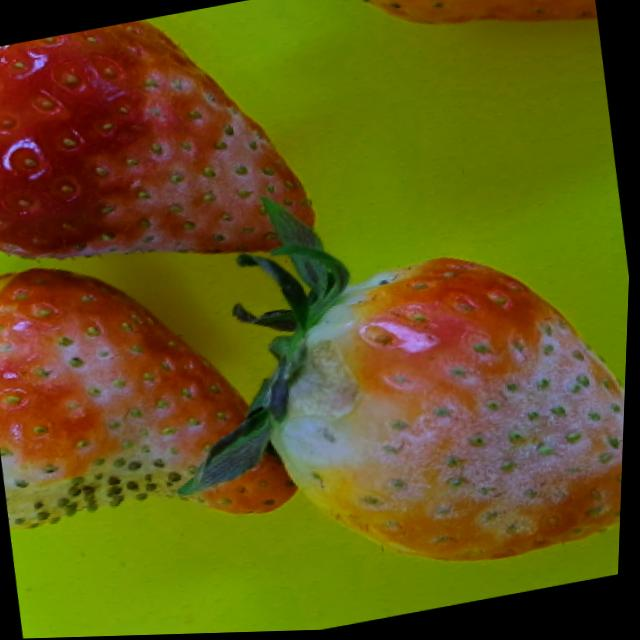Powdery Mildew Fruit: (268, 260, 628, 567), (0, 266, 303, 531), (0, 20, 321, 264)
